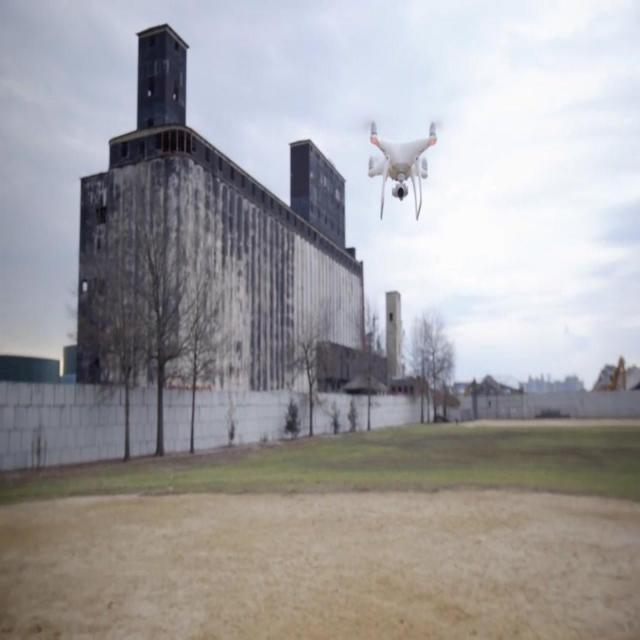UAV: (368, 117, 438, 223)
